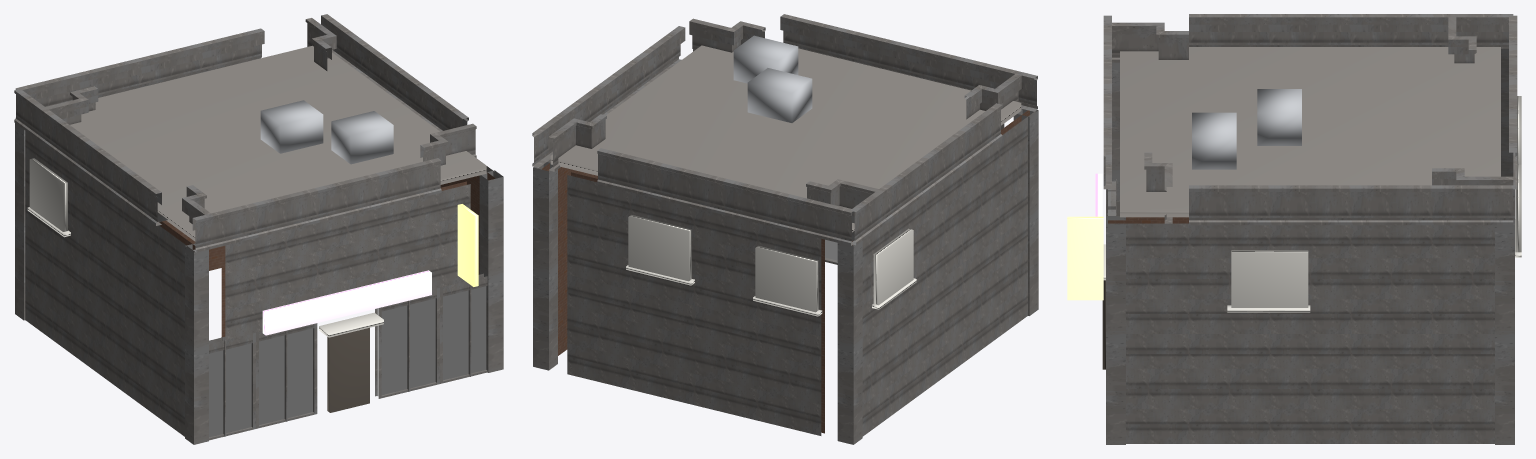
Rendered from b_shop1.gltf.
The picture shows the model from 3 angles, left to right: view 1: azimuth 30°, elevation 25°; view 2: azimuth 150°, elevation 25°; view 3: azimuth 270°, elevation 25°; orthographic projection. The views are drawn at different scales.
Visible parts, largest first — view 1: b_shop1; view 2: b_shop1; view 3: b_shop1.
Boxes of the visible parts, bbox=[...] form: b_shop1: bbox=[14, 14, 503, 444]; b_shop1: bbox=[532, 14, 1038, 444]; b_shop1: bbox=[1067, 14, 1521, 444].
Bounding box in the file's own units: 10.48 × 7.3 × 11.21.
Materials: 13 (3 with a texture image).
